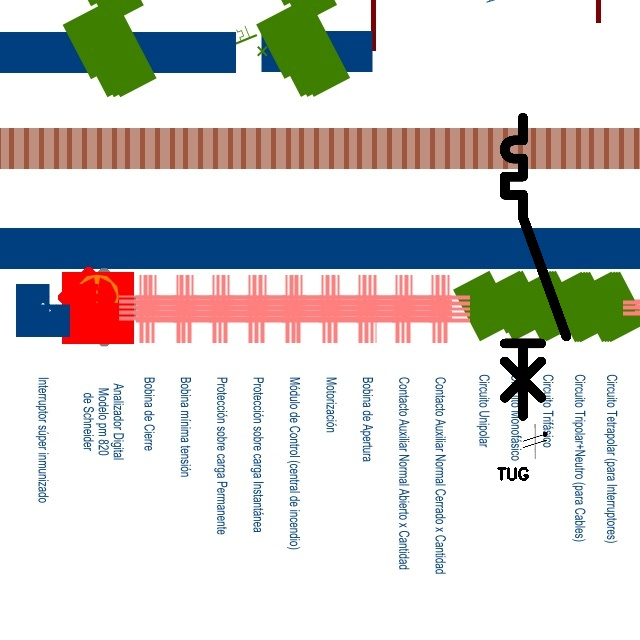interruptor_termomagnetico: (497, 110, 573, 423)
